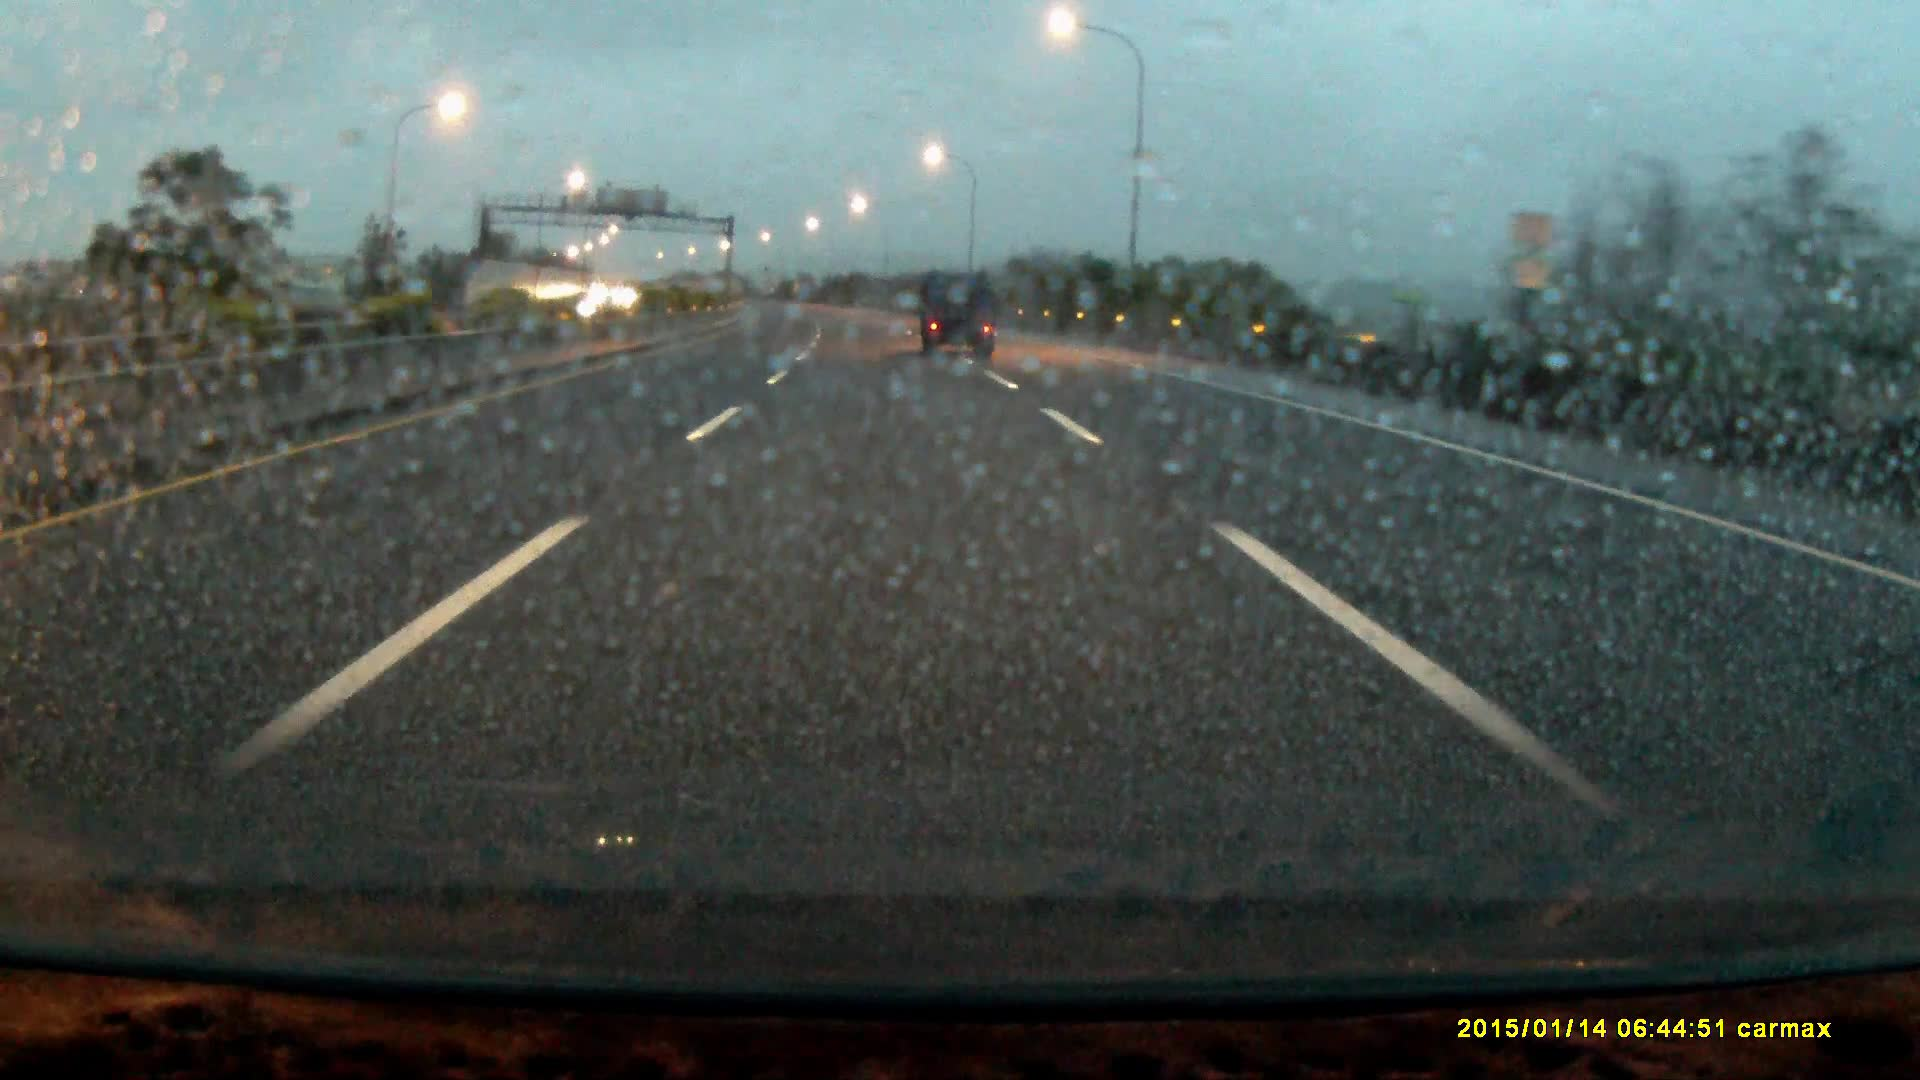vehicle: (919, 272, 1000, 356)
